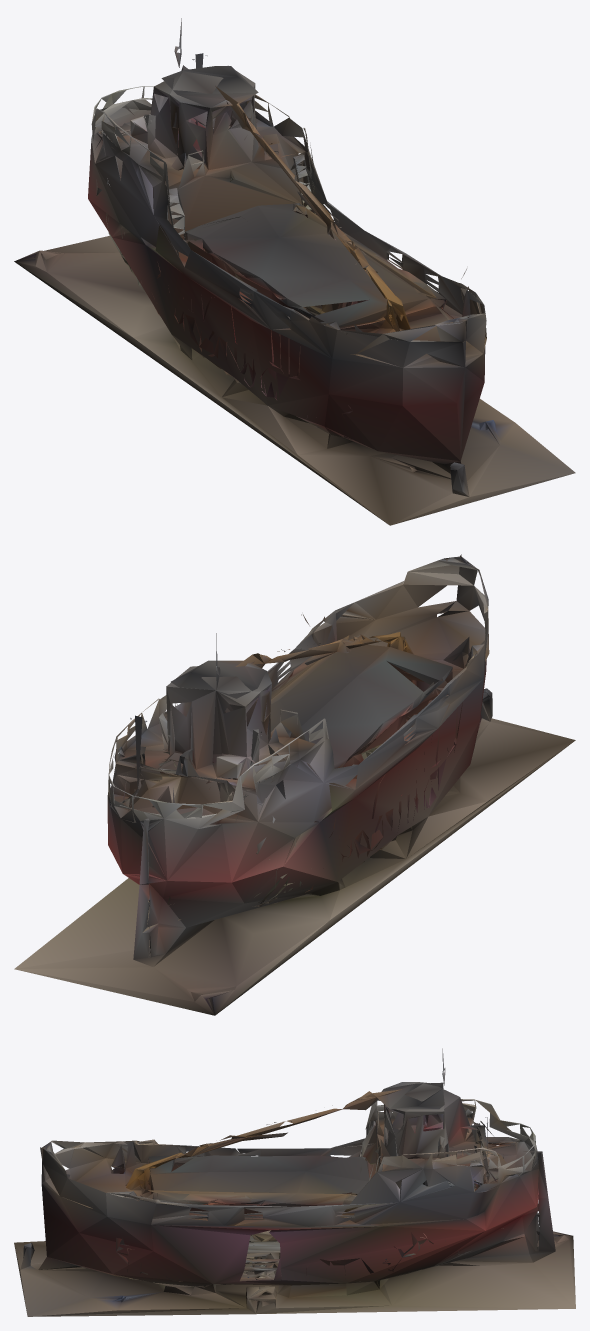
File: boatSimplified.glb
The picture shows the model from 3 angles, top to bottom: view 1: azimuth 30°, elevation 25°; view 2: azimuth 150°, elevation 25°; view 3: azimuth 270°, elevation 25°; orthographic projection. The views are drawn at different scales.
Visible parts, largest first — view 1: boat; view 2: boat; view 3: boat.
Boxes of the visible parts, x1,y1,x2,y2 form: boat: (14,18,575,525); boat: (14,554,575,1015); boat: (14,1048,575,1316).
Size of the model in its own units: 4.55 by 6.11 by 13.78.
